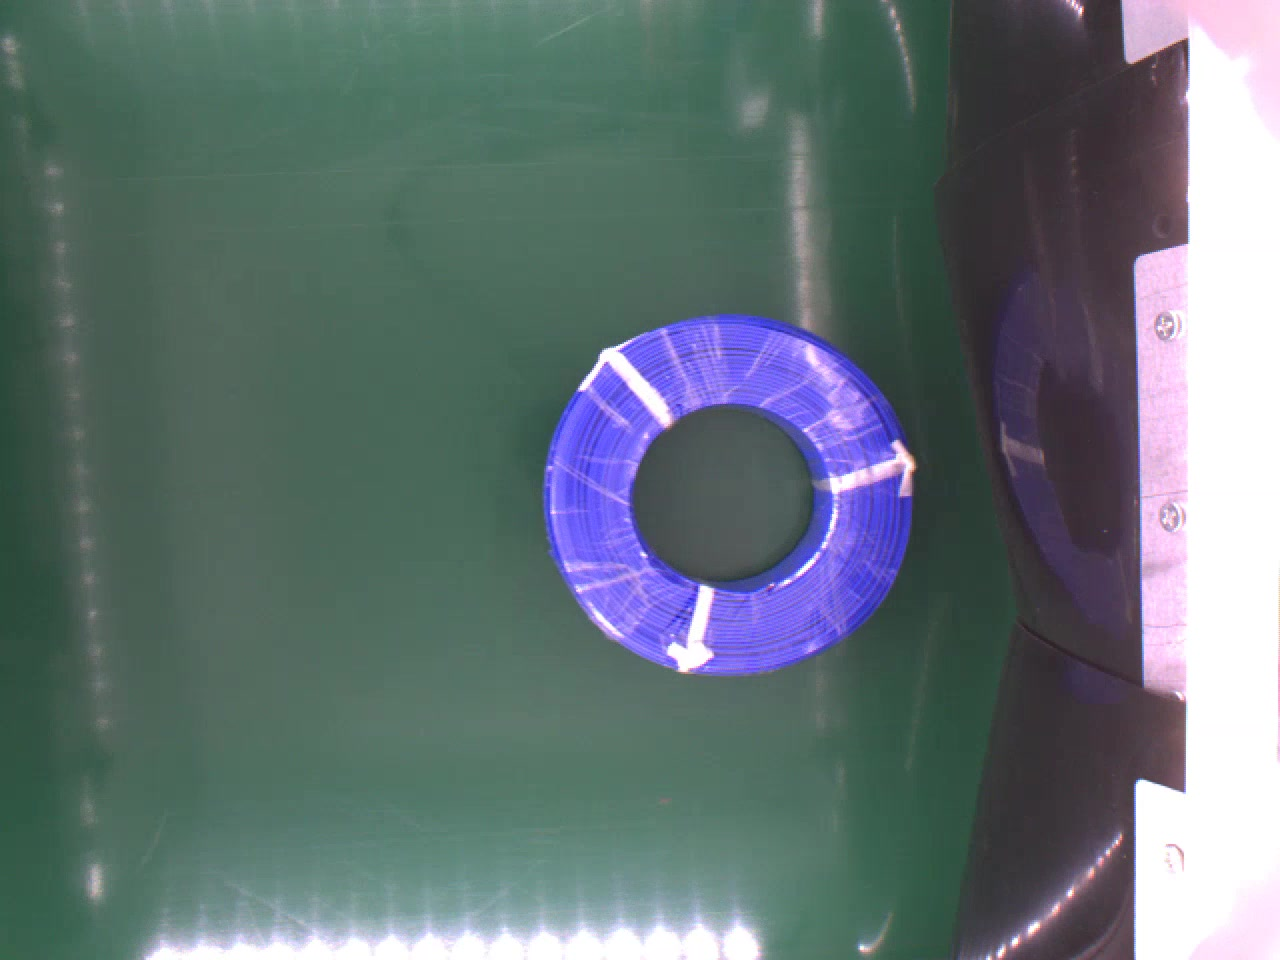blue: (537, 301, 925, 682)
